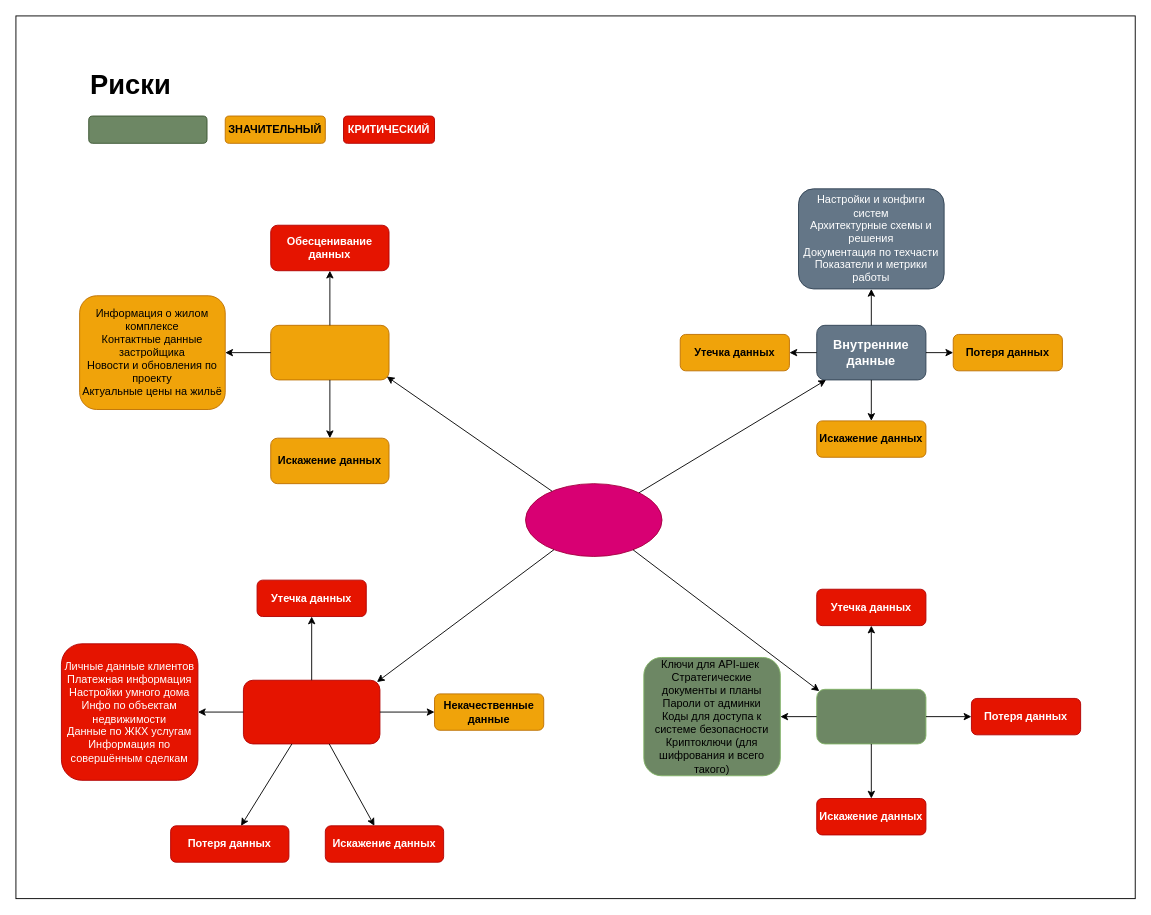
This 1151x915 diagram has some shape labels left out. The centre of each missing label's shape, as x and y in pixels:
Безопасность данных: [593,519]
Конфиденциальные данные: [311,711]
НЕЗНАЧИТЕЛЬНЫЙ: [147,129]
Публичные данные: [329,352]
Секретные данные: [871,716]
